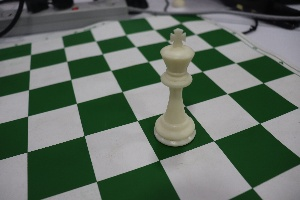white_king: (151, 21, 201, 156)
